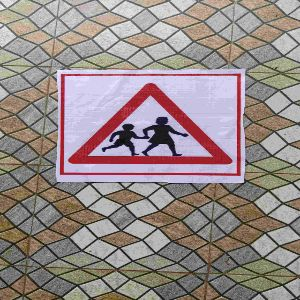schools: (60, 74, 240, 177)
